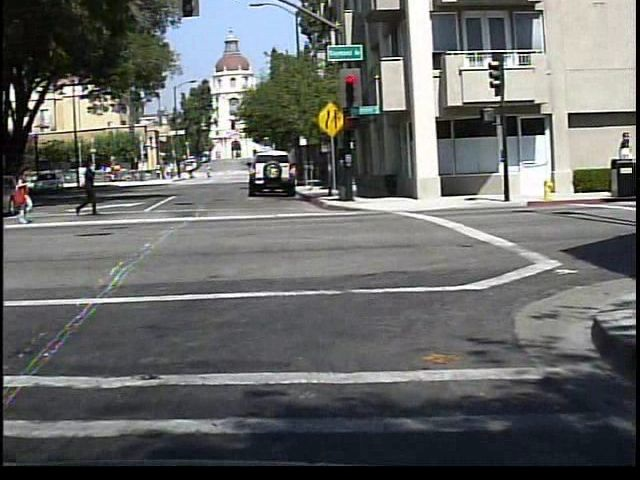person: (68, 158, 105, 222), (11, 166, 35, 229), (199, 162, 211, 182), (182, 166, 193, 183)
